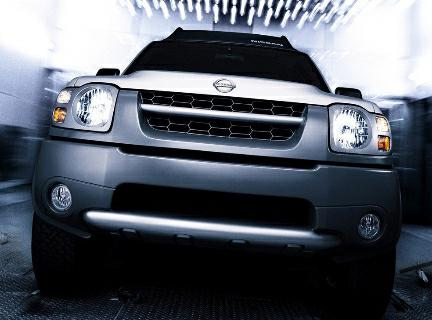日产-Xterra: (25, 26, 406, 308)
